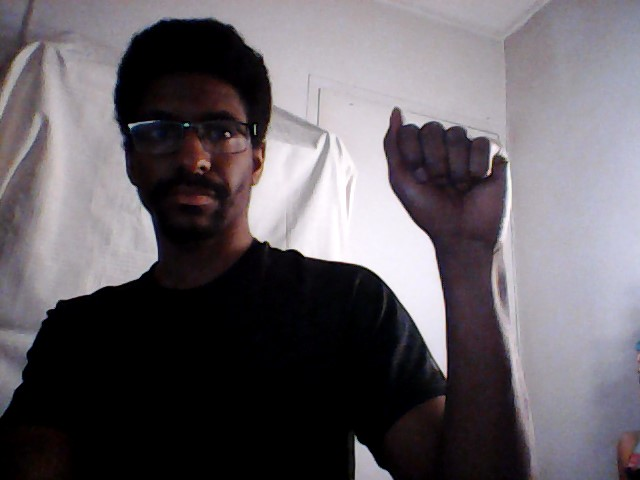a: (381, 103, 518, 245)
